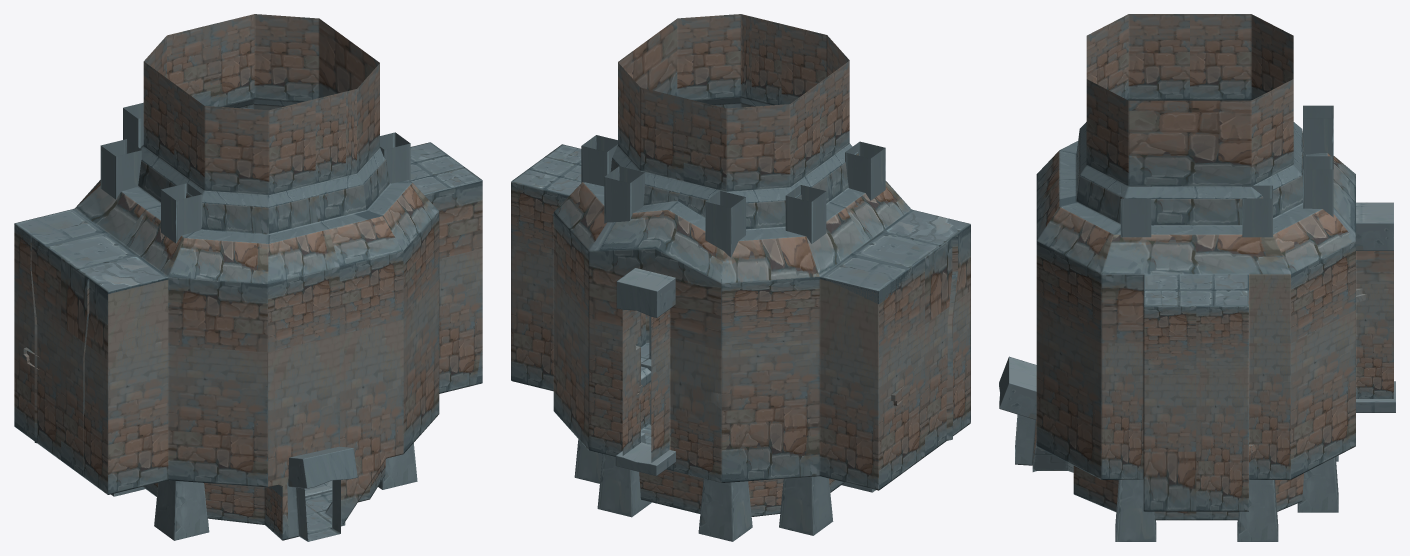
The model's file is pillar_room.glb.
3 views of the same model, side by side, from view 1: azimuth 30°, elevation 25°; view 2: azimuth 150°, elevation 25°; view 3: azimuth 270°, elevation 25° (orthographic). The views are drawn at different scales.
Visible parts, largest first — view 1: Room, Pillars, PassageBlock2, RoomWall; view 2: Room, Pillars, PassageBlock0, RoomWall, RoomAdditions, PassageBlock1; view 3: Room, Pillars, PassageBlock2, PassageBlock0, PassageBlock1.
Part boxes in pixels (x1,y1,x2,y2): Room: (14, 14, 482, 541); Pillars: (100, 102, 417, 540); PassageBlock2: (288, 446, 357, 488); RoomWall: (30, 236, 89, 476); Room: (511, 14, 970, 516); Pillars: (574, 135, 885, 541); PassageBlock0: (616, 268, 675, 317); RoomWall: (896, 237, 957, 440); RoomAdditions: (631, 268, 910, 409); PassageBlock1: (615, 442, 675, 476); Room: (1015, 14, 1393, 520); Pillars: (1115, 105, 1338, 541); PassageBlock2: (999, 356, 1036, 419); PassageBlock0: (1356, 202, 1393, 250); PassageBlock1: (1356, 381, 1395, 412).
Size of the model in its own units: 3045 by 3070 by 2591.
Materials: 1 (1 with a texture image).
